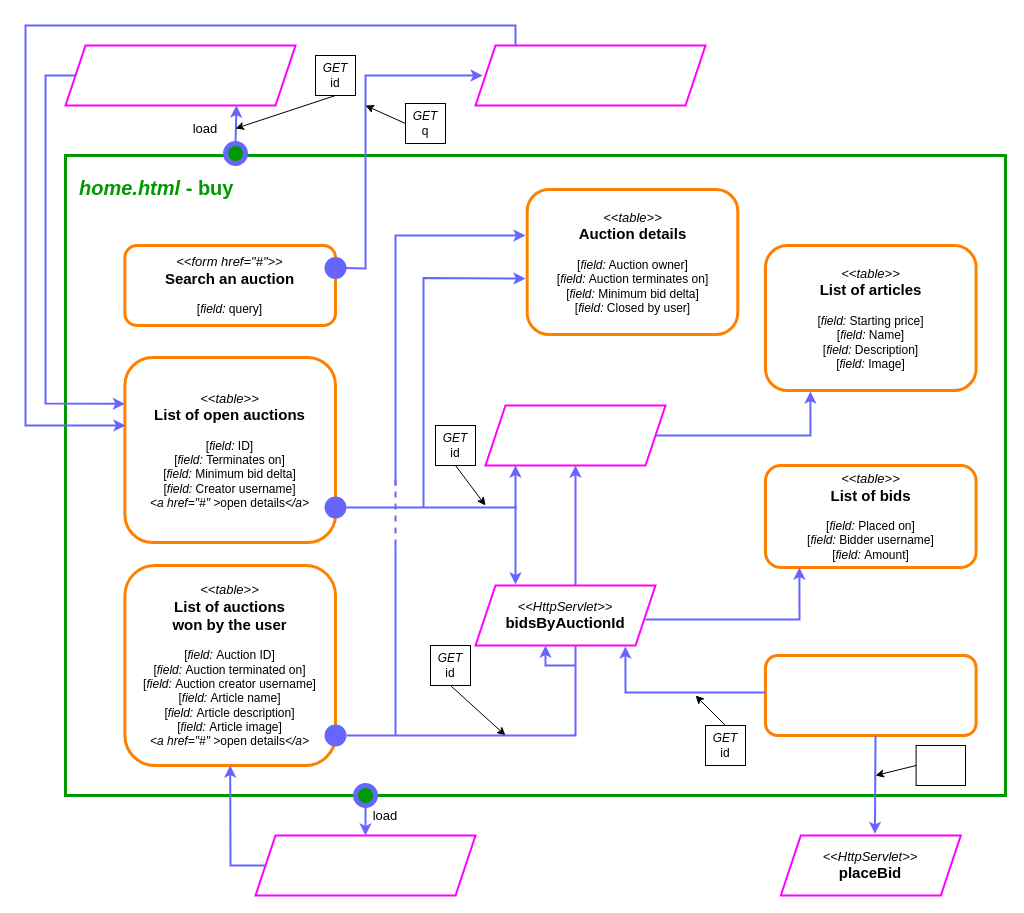
The diagram is 1024 pixels wide and 913 high, and some of its shapes have lost their labels. The centre of each missing label's shape, as x and y in pixels:
<<form href="#">> Place bid [ field: amount]: (870,695)
<<HttpServlet>> articlesByAuctionId: (575,435)
<<HttpServlet>> openAuctionsFromIds: (180,75)
<<HttpServlet>> openAuctionsWithSearch: (590,75)
<<HttpServlet>> wonAuctionsWithArticles: (365,865)
POST id: (940,765)
